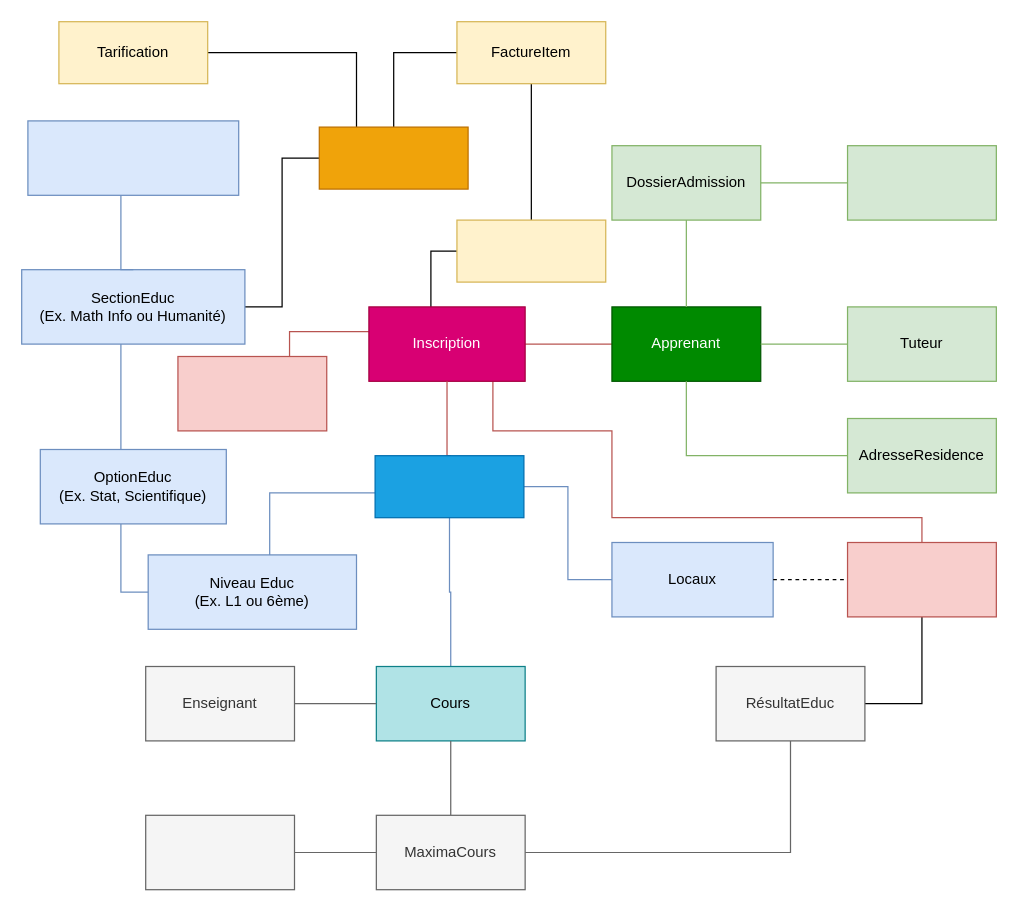
This 1018x911 diagram has some shape labels left out. The box of each missing label's shape, as (x1, y1, x2, y2) in pixels:
Affectation: (846, 541, 996, 617)
AnnéeAcademique: (177, 355, 327, 431)
Document: (846, 144, 996, 220)
Facture: (456, 219, 606, 282)
GroupementEduc (Ex. Faculté Science): (27, 120, 239, 195)
Produit: (318, 126, 468, 189)
Promotion: (374, 454, 524, 518)
PériodeEduc: (144, 814, 294, 890)
